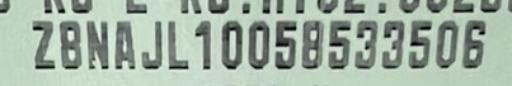letter: (350, 16, 384, 70), (298, 15, 328, 71), (136, 16, 166, 72), (270, 17, 300, 73), (84, 15, 112, 73), (324, 16, 354, 70), (460, 16, 490, 70), (108, 17, 138, 71), (378, 16, 408, 68), (162, 18, 192, 70), (216, 18, 246, 70), (406, 18, 436, 70), (246, 16, 272, 72), (57, 16, 83, 72), (30, 17, 56, 69), (434, 17, 460, 69), (192, 18, 216, 74)
